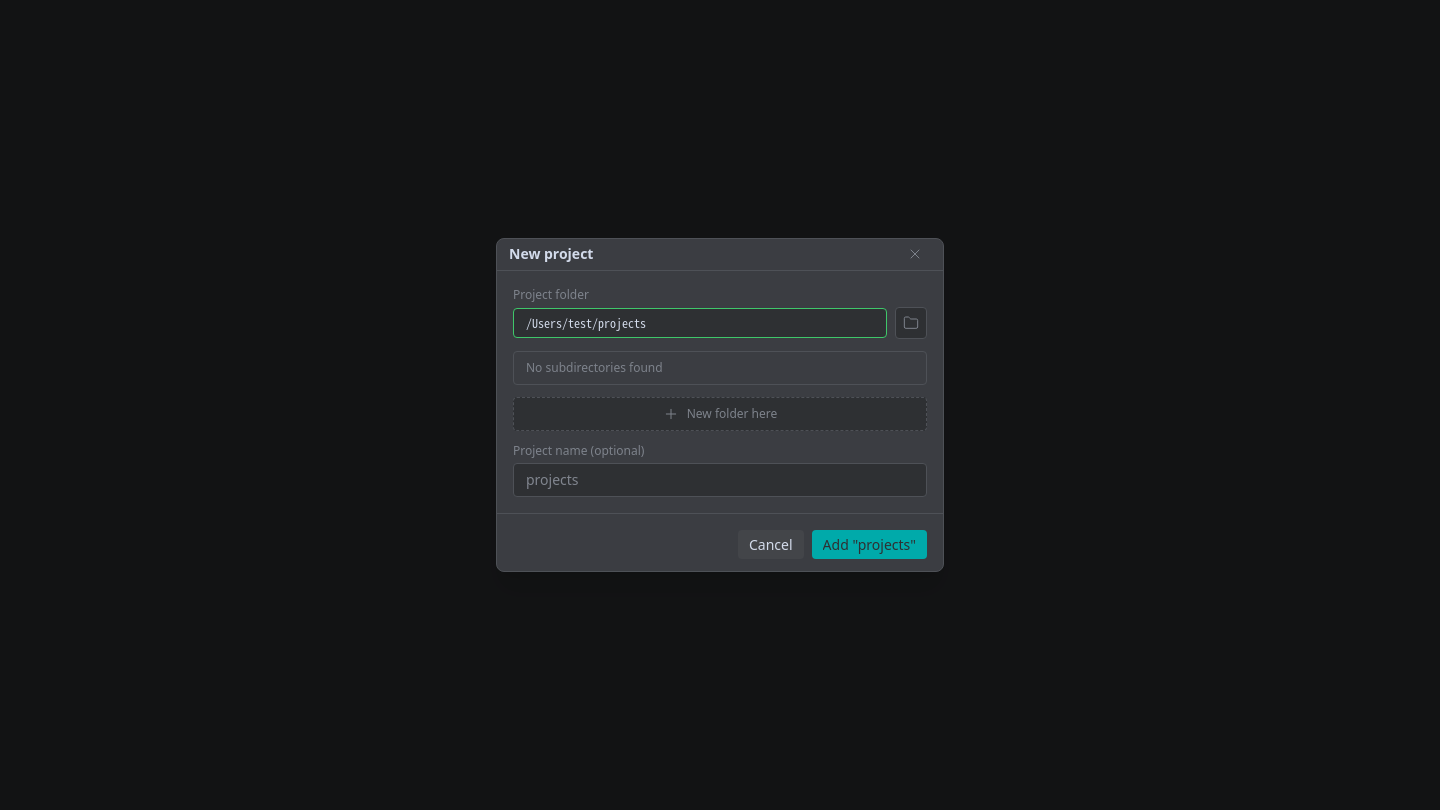
Test: NewProjectDialog -- create new folder › disables the submit button while the name is empty
What coordinates should you click on to do the following:
click the button "New folder here"
I would click on:
 (720, 414)
Its box is [513,397,927,431].
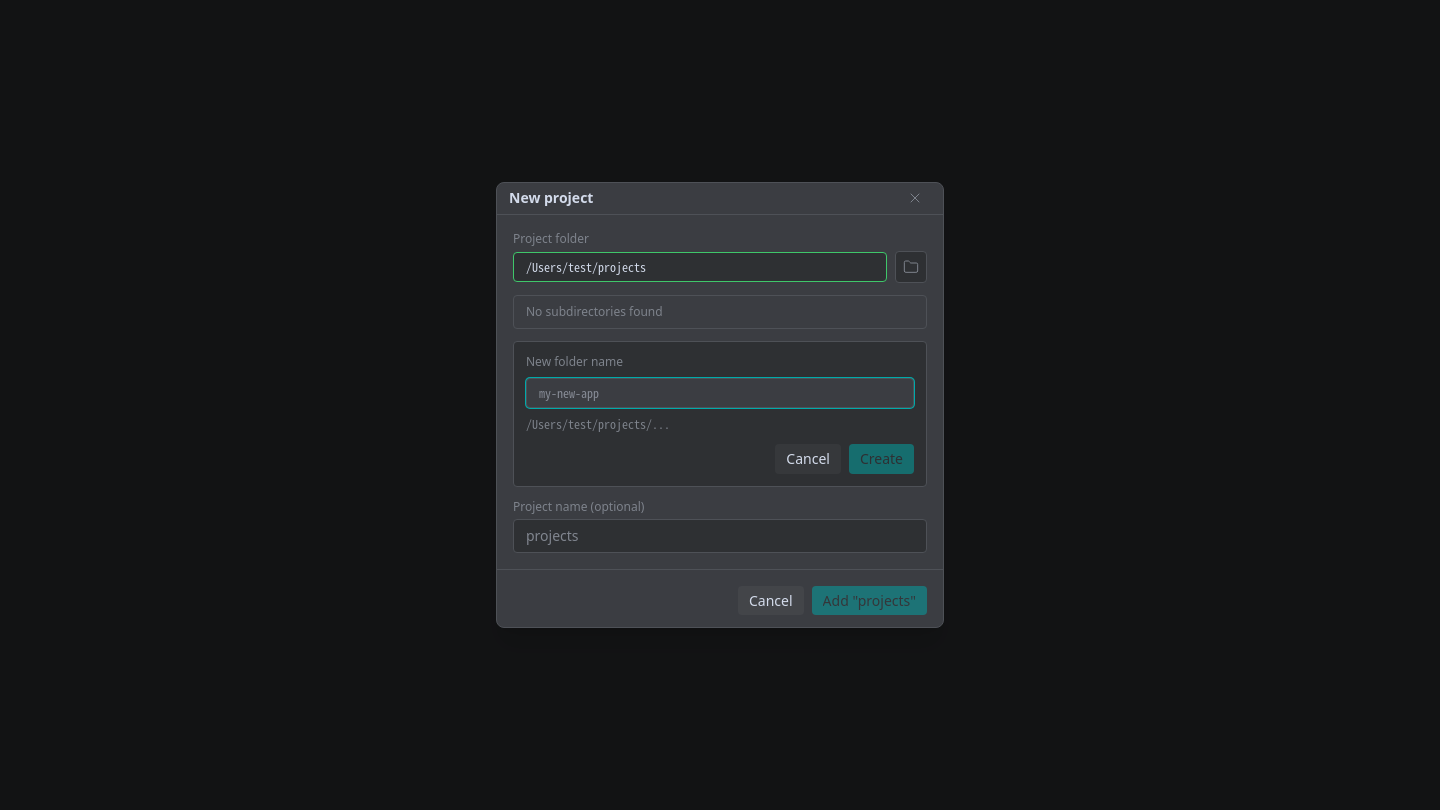
Expected: the field with placeholder "my-new-app" is shown, [526,378,914,408]
Expected: the button "Create" is disabled, [849,444,914,474]
